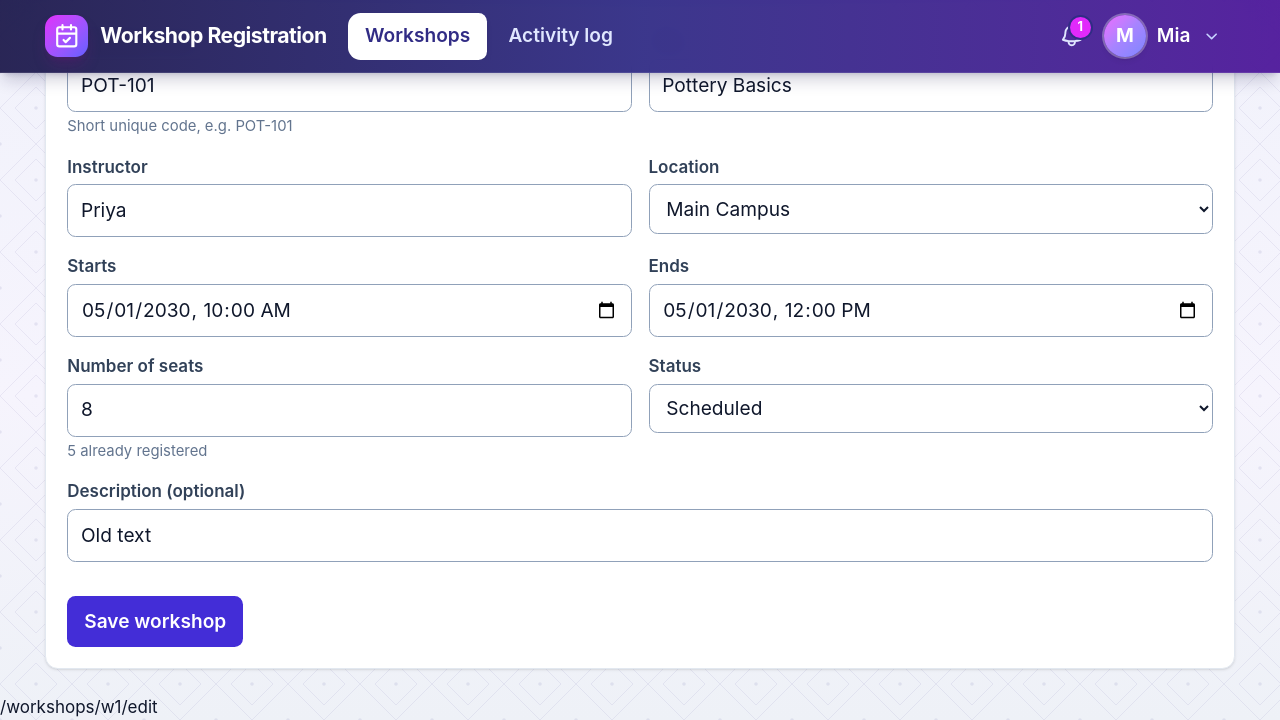
WorkshopForm (edit) › surfaces API errors such as capacity below current registrations
This screenshot has width=1280, height=720.
(page scrolled)
Expected: the field labelled "Title" is shown, [648,59,1213,112]
Click the button "Save workshop": coordinates (155, 622) [67,596,243,647]
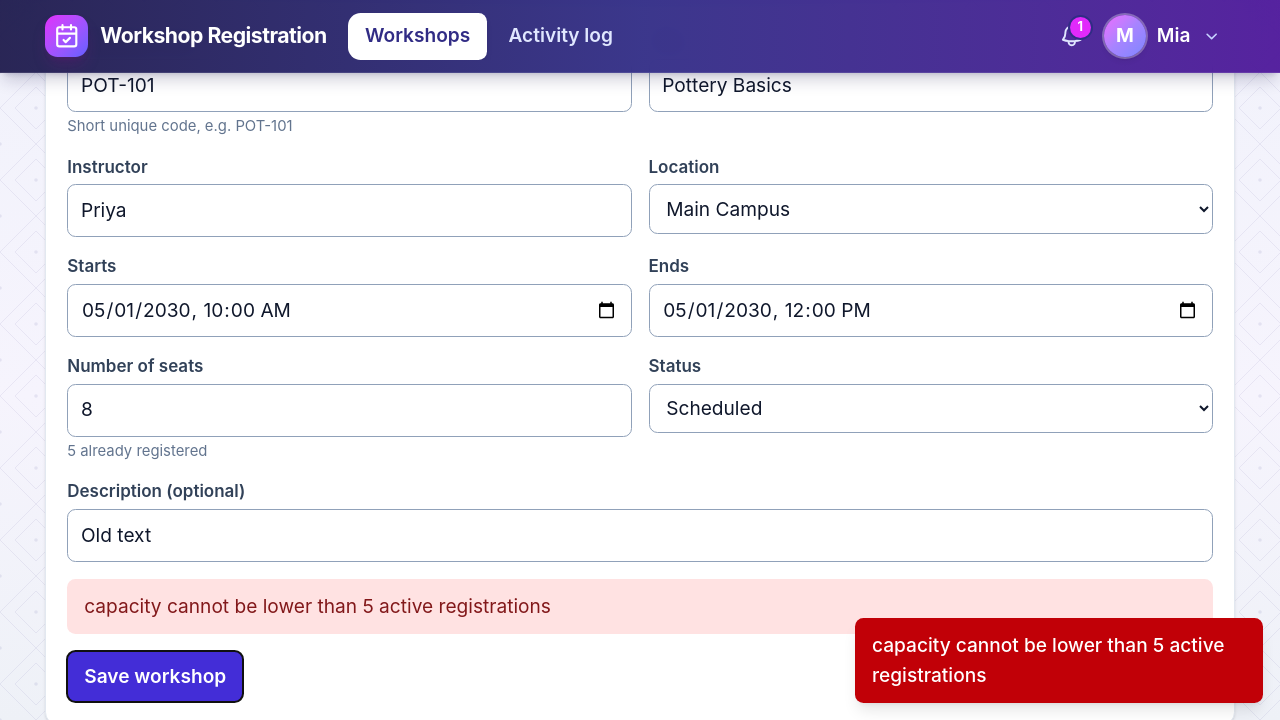
Now the message "capacity cannot be lower than 5 active registrations" below "Description (optional)" is shown, box [84,594,551,618]
